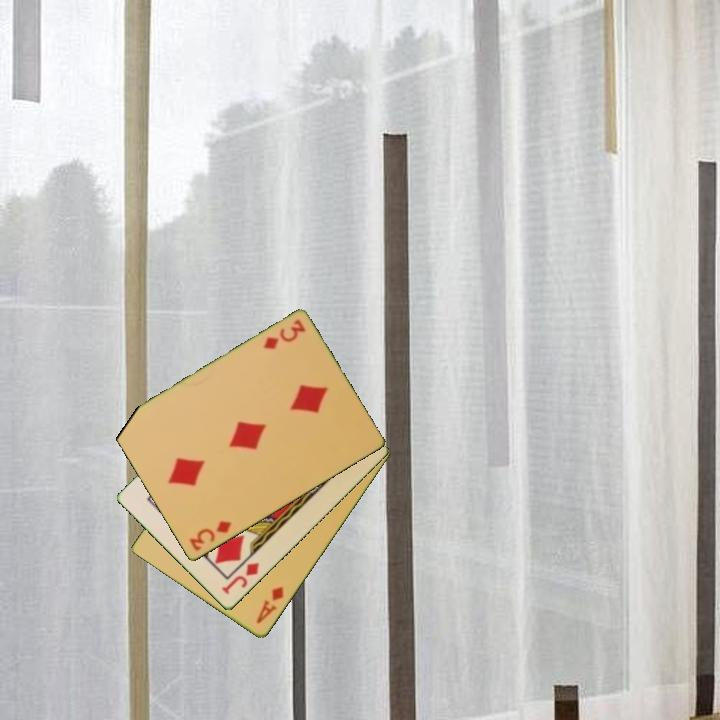3d: (185, 517, 234, 554), (260, 316, 308, 353)
Ad: (253, 583, 287, 627)
Jd: (218, 559, 262, 598)
